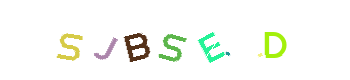4: (144, 0, 224, 80)
8: (171, 0, 251, 80)
B: (96, 0, 176, 80)
D: (234, 0, 314, 80)
E: (135, 0, 215, 80)
J: (72, 0, 152, 80)
S: (39, 0, 119, 80), (132, 0, 212, 80)
